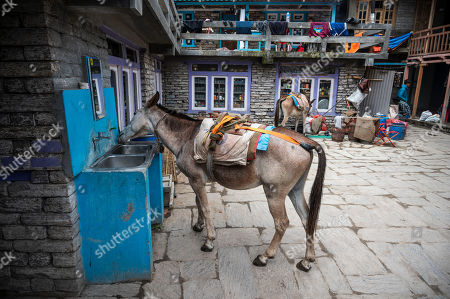equine: (117, 81, 335, 287), (273, 84, 323, 141)
human: (388, 75, 418, 119)
